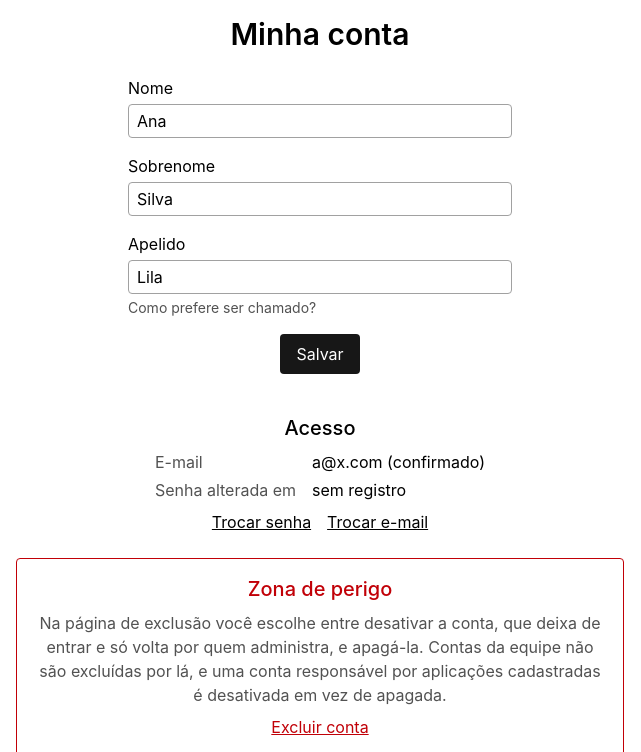
Test: Conta: erros do PATCH › T-05) geral json_invalido: role=alert com a mensagem do IdP
The width and height of the screenshot is (641, 752).
Expected: the heading "Minha conta" is shown, [230,16,410,52]
Replace the text in the field labelled "Nome" with "Nova" at {"x": 320, "y": 121}, box [128,104,512,138]
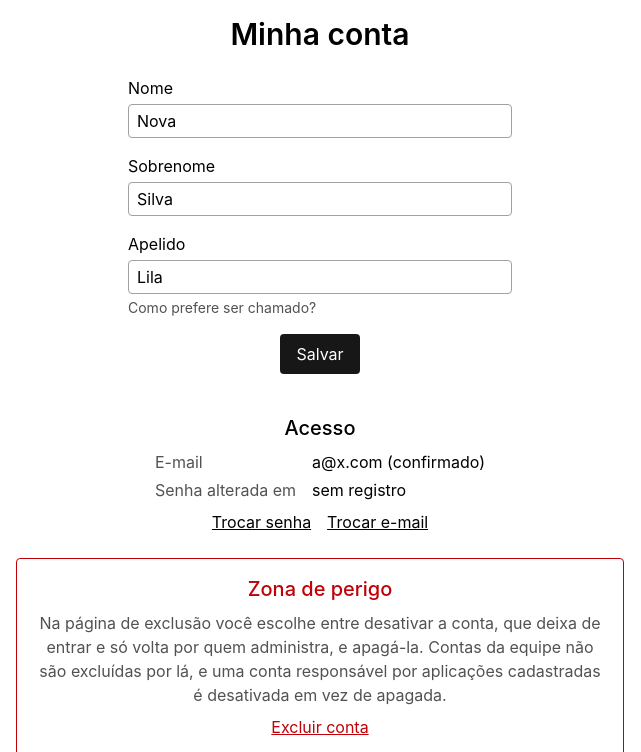
Click the button "Salvar" at {"x": 320, "y": 354}, box [280,334,360,374]
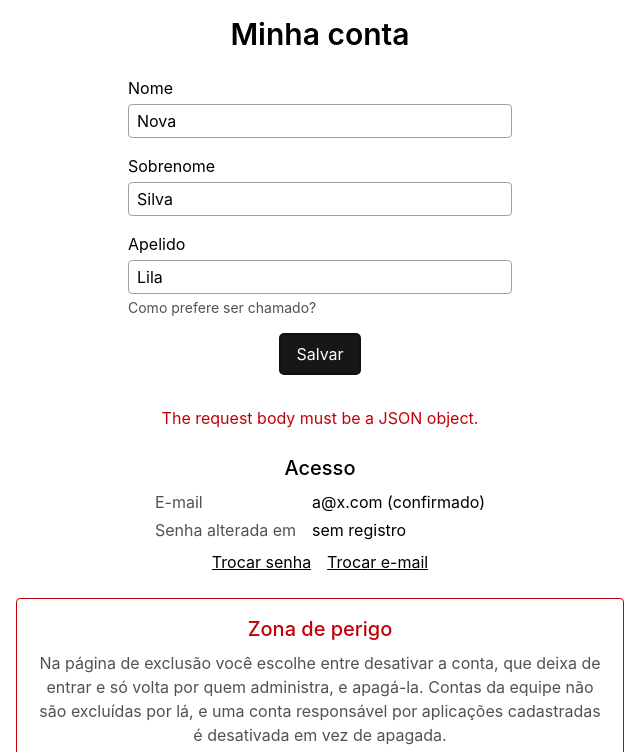
Result: the message reads "The request body must be a JSON object." at [162,408,478,428]
